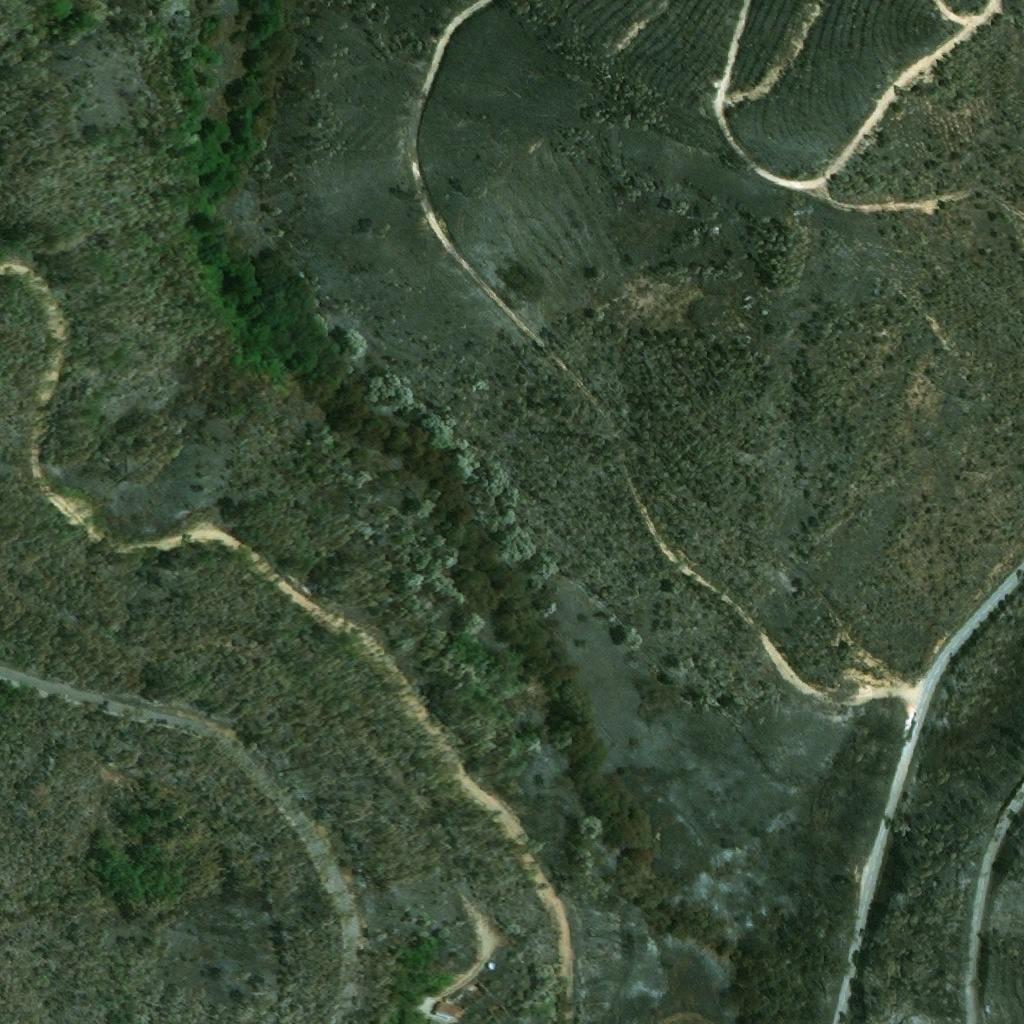0 no-damage: (435, 1000, 461, 1019)
